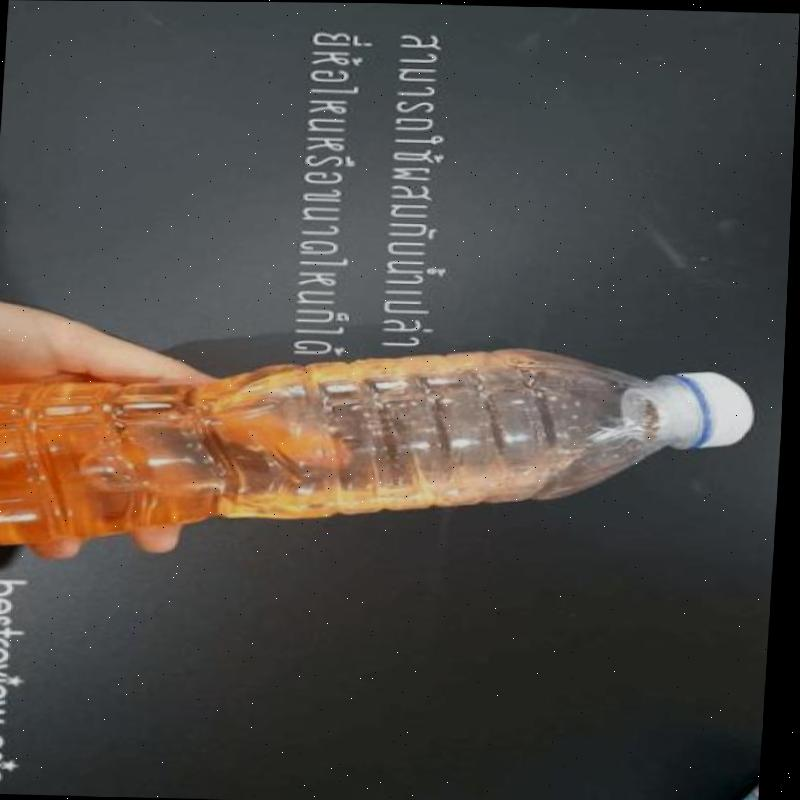botella: (0, 335, 763, 568)
